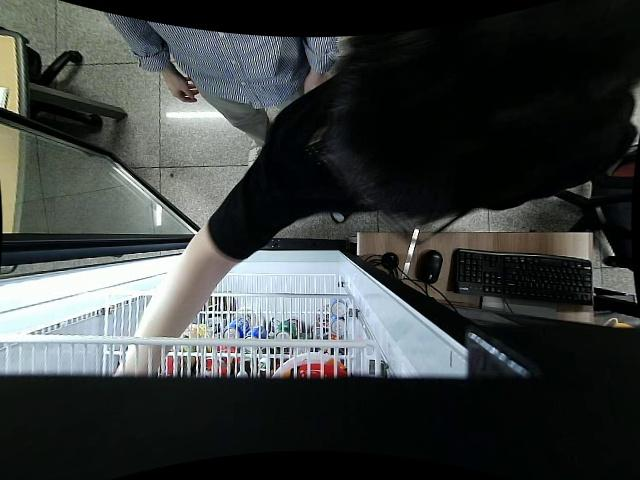00_hand: (165, 74, 201, 103)
